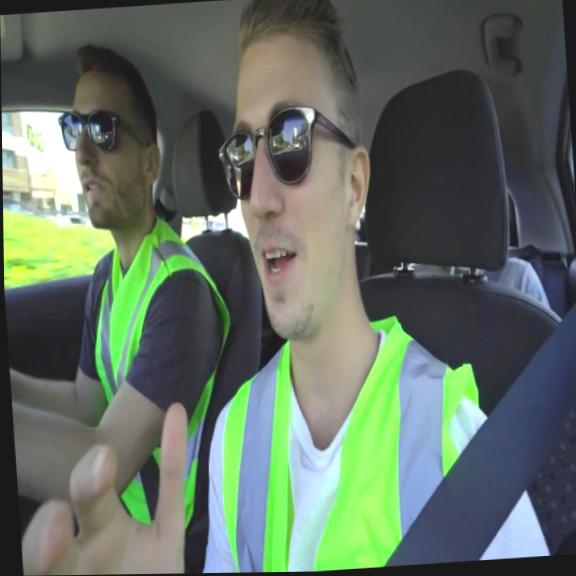safety_vest: (212, 306, 490, 573), (84, 205, 244, 537)
